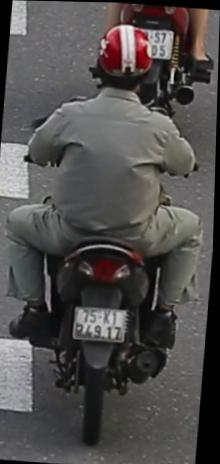LP: (72, 300, 132, 345)
helmet: (83, 21, 159, 86)
